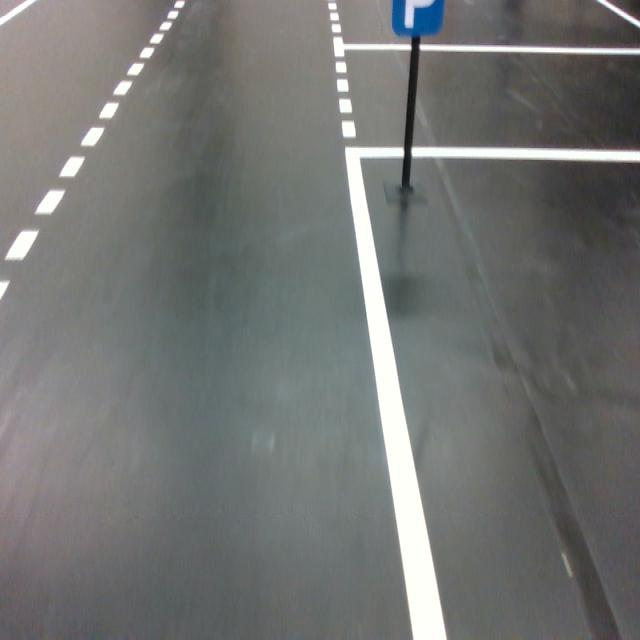parking-sign: (391, 0, 445, 37)
